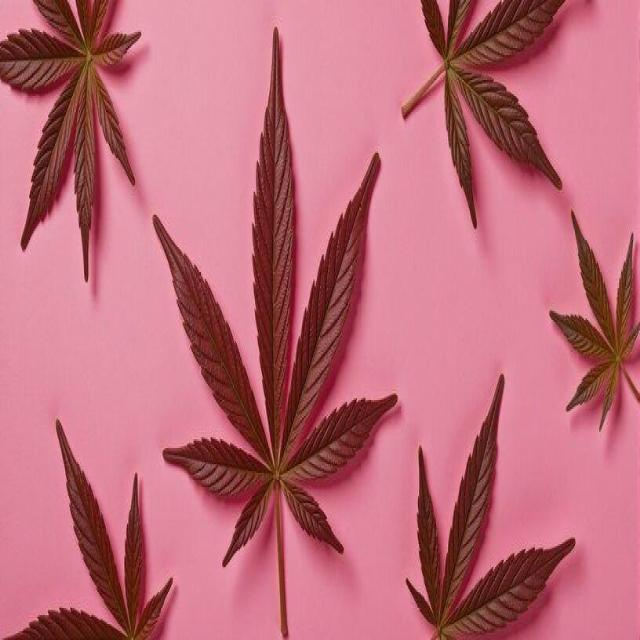cannabis: (151, 28, 400, 635), (404, 372, 576, 638), (0, 0, 143, 286), (2, 412, 174, 638), (402, 0, 567, 229), (548, 210, 639, 438)
